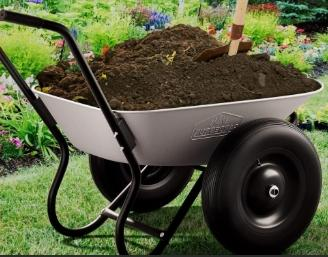BROUETTE: (1, 12, 326, 257)
